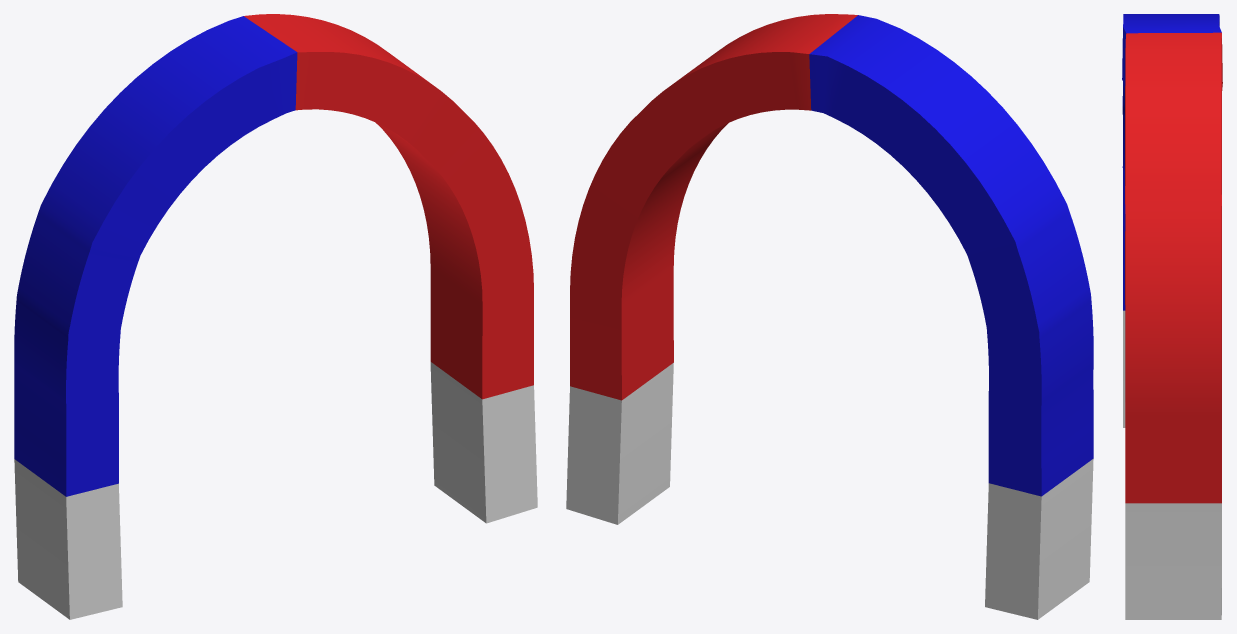
Rendered from Magnet.fbx.
3 views of the same model, side by side, from view 1: azimuth 30°, elevation 25°; view 2: azimuth 150°, elevation 25°; view 3: azimuth 270°, elevation 25° (orthographic). The views are drawn at different scales.
Visible parts, largest first — view 1: Magnet; view 2: Magnet; view 3: Magnet.
Boxes of the visible parts, x1,y1,x2,y2 form: Magnet: [14, 14, 537, 619]; Magnet: [566, 14, 1093, 619]; Magnet: [1122, 14, 1222, 619].
Size of the model in its own units: 27.56 by 28.78 by 5.46.
